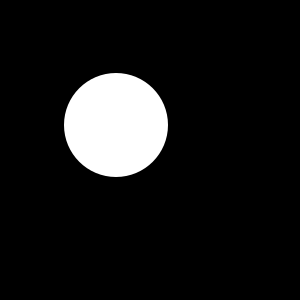rectangle: (64, 73, 168, 177)
